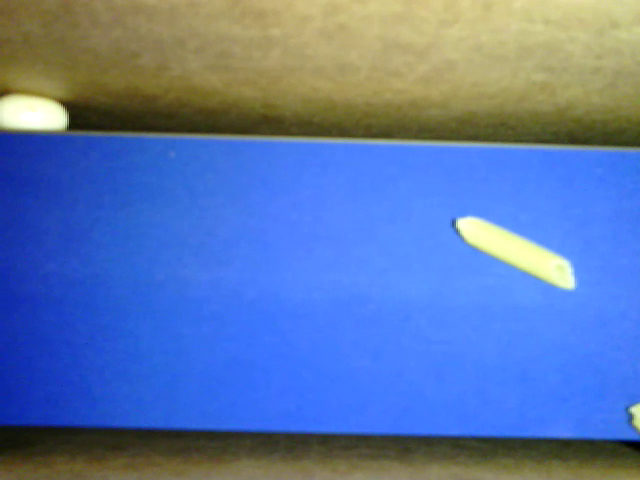penne: (456, 214, 575, 290)
